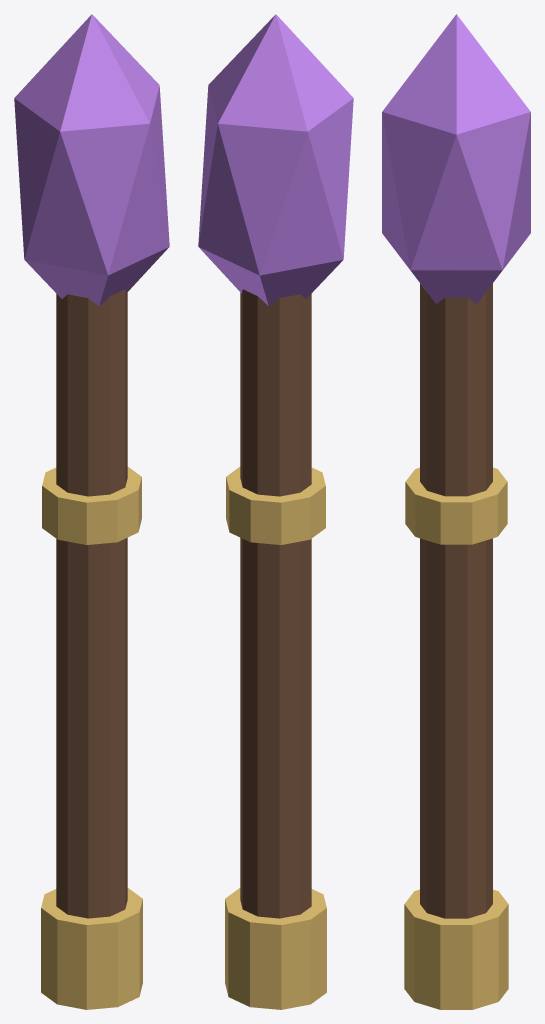
Rendered from wand-1.glb.
The picture shows the model from 3 angles, left to right: view 1: azimuth 30°, elevation 25°; view 2: azimuth 150°, elevation 25°; view 3: azimuth 270°, elevation 25°; orthographic projection.
Visible parts, largest first — view 1: Twisted walnut grip.003, Faceted moon crystal.003, Pommel.003, Rank gold inlay.006; view 2: Twisted walnut grip.003, Faceted moon crystal.003, Pommel.003, Rank gold inlay.006; view 3: Twisted walnut grip.003, Faceted moon crystal.003, Pommel.003, Rank gold inlay.006.
Part boxes in pixels (left/top/right/bottom): Twisted walnut grip.003: left=56, top=289, right=127, bottom=918; Faceted moon crystal.003: left=14, top=14, right=169, bottom=305; Pommel.003: left=41, top=888, right=142, bottom=1009; Rank gold inlay.006: left=42, top=467, right=141, bottom=544; Twisted walnut grip.003: left=240, top=289, right=311, bottom=918; Faceted moon crystal.003: left=198, top=14, right=353, bottom=305; Pommel.003: left=225, top=888, right=326, bottom=1009; Rank gold inlay.006: left=226, top=467, right=325, bottom=544; Twisted walnut grip.003: left=420, top=283, right=492, bottom=918; Faceted moon crystal.003: left=382, top=14, right=530, bottom=303; Pommel.003: left=404, top=889, right=508, bottom=1009; Rank gold inlay.006: left=405, top=467, right=507, bottom=544.
Bounding box in the file's own units: 0.1503 × 1.03 × 0.1429.
